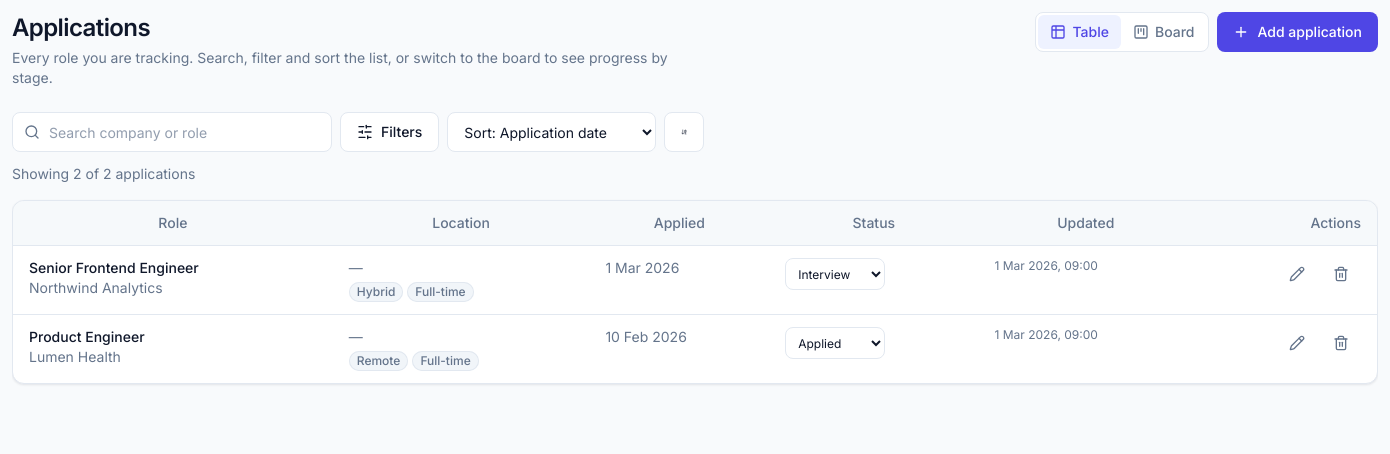
Test: ApplicationsPage — search and filters › shows an empty state and a way back when nothing matches
Step 1. Type "zzzz" into the search field named "search by company or role" → [172, 132], box [12,112,332,152]
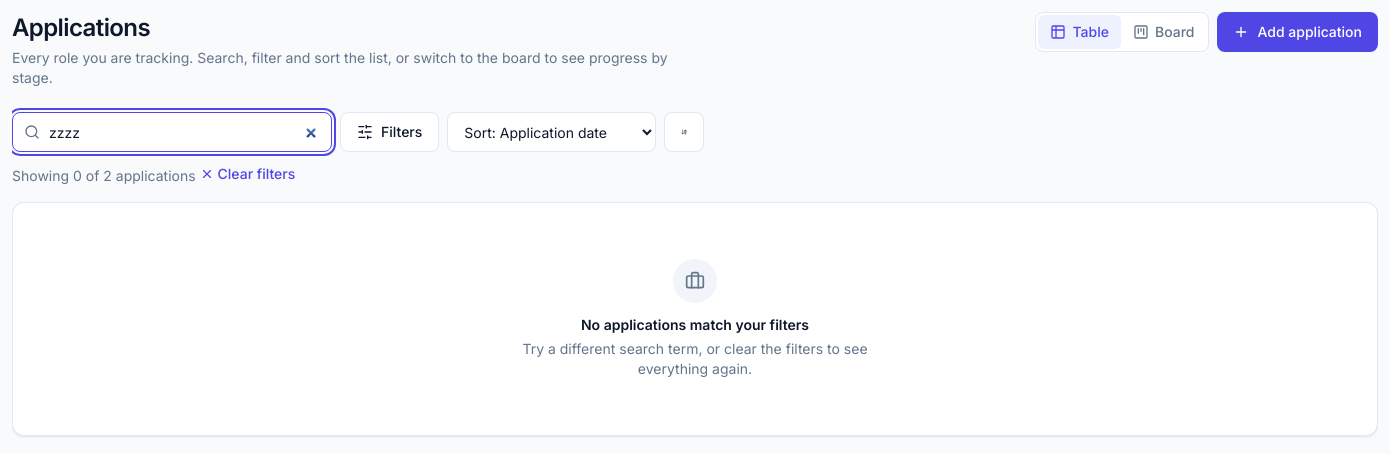
Result: the text "No applications match your filters" is shown at [581,316,809,333]
Step 2. Click the button "Clear filters" → [247, 174], box [200,164,295,184]
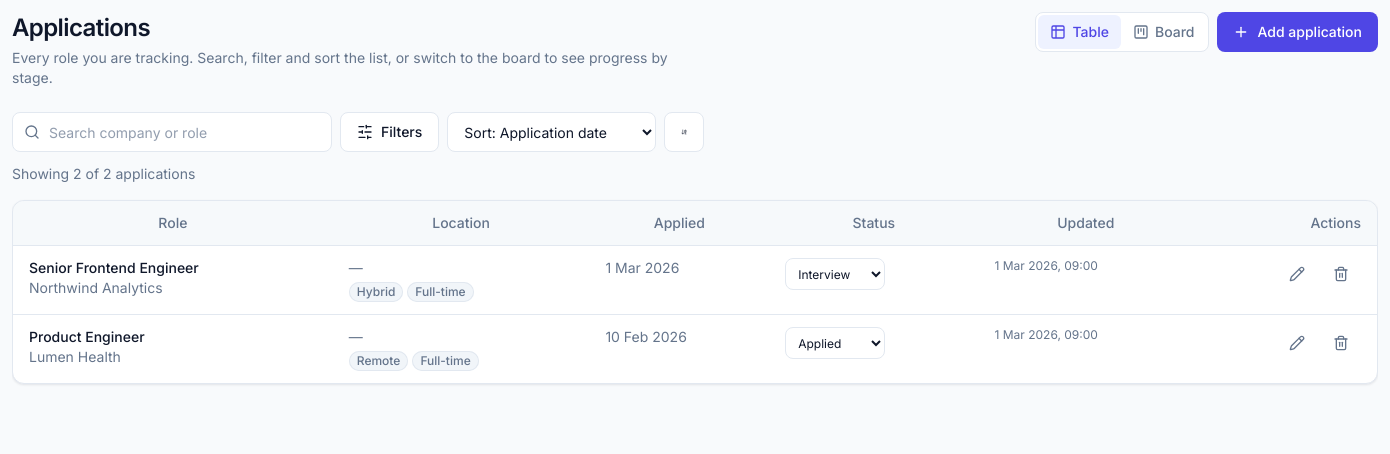
Result: the text "Showing 2 of 2 applications" is shown at [12,165,195,182]
